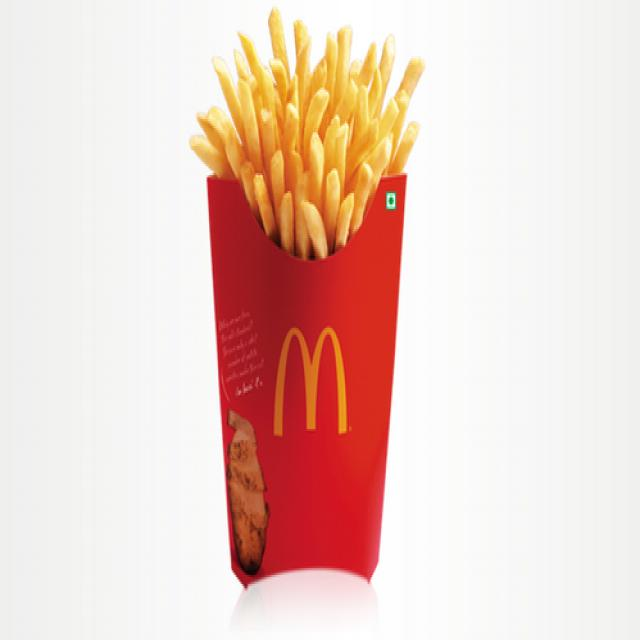Fries: (185, 0, 431, 582)
